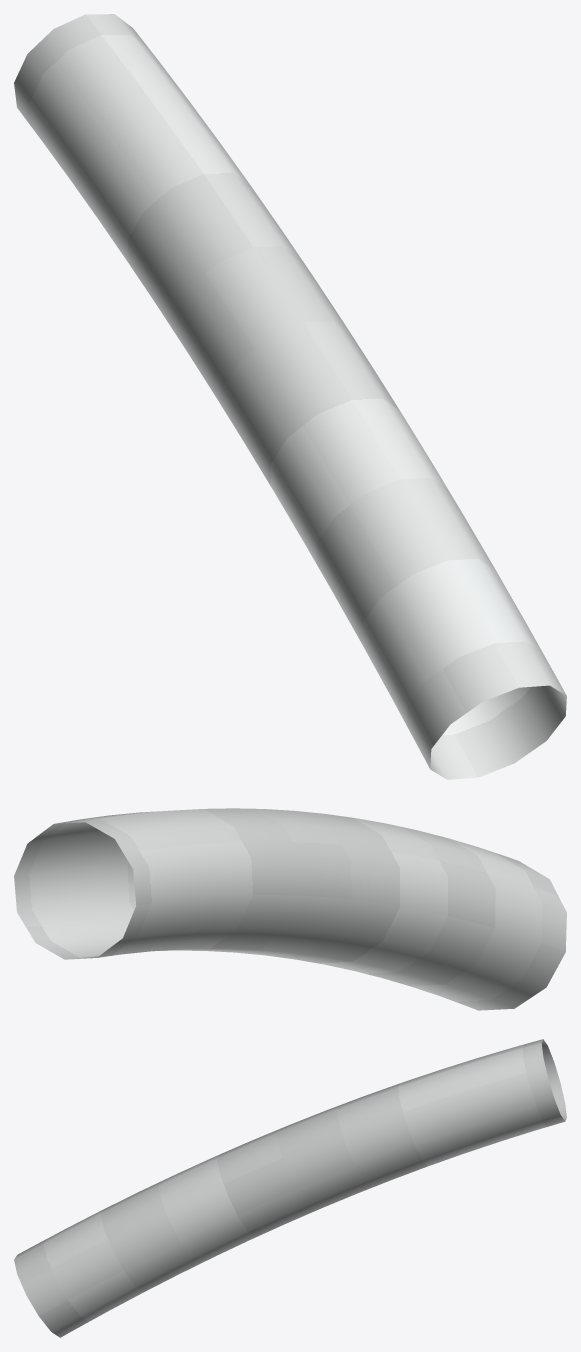
File: luminairearm_anaheim8ft_c2.obj
3 views of the same model, one above another, from view 1: azimuth 30°, elevation 25°; view 2: azimuth 150°, elevation 25°; view 3: azimuth 270°, elevation 25° (orthographic). The views are drawn at different scales.
Visible parts, largest first — view 1: luminairearm_anaheim8ft_c2; view 2: luminairearm_anaheim8ft_c2; view 3: luminairearm_anaheim8ft_c2.
Part boxes in pixels (bbox=[...]): luminairearm_anaheim8ft_c2: bbox=[14, 14, 566, 779]; luminairearm_anaheim8ft_c2: bbox=[14, 808, 566, 1010]; luminairearm_anaheim8ft_c2: bbox=[14, 1039, 566, 1337].
Size of the model in its own units: 0.1833 by 0.62 by 1.07.
